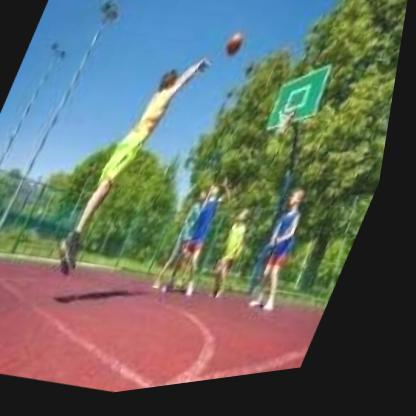basketball: (222, 33, 254, 69)
